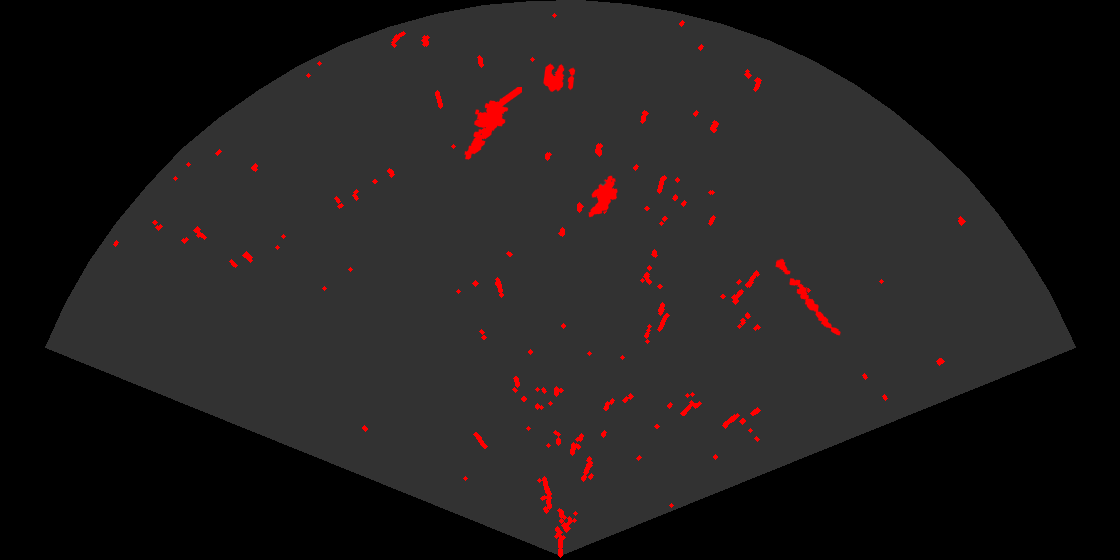AUV: (587, 174, 619, 219)
ball: (542, 62, 577, 93)
chain: (774, 257, 842, 337)
frogman: (463, 87, 522, 161)
